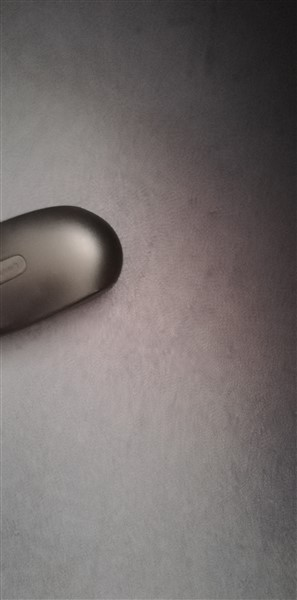mouse: (1, 200, 132, 348)
